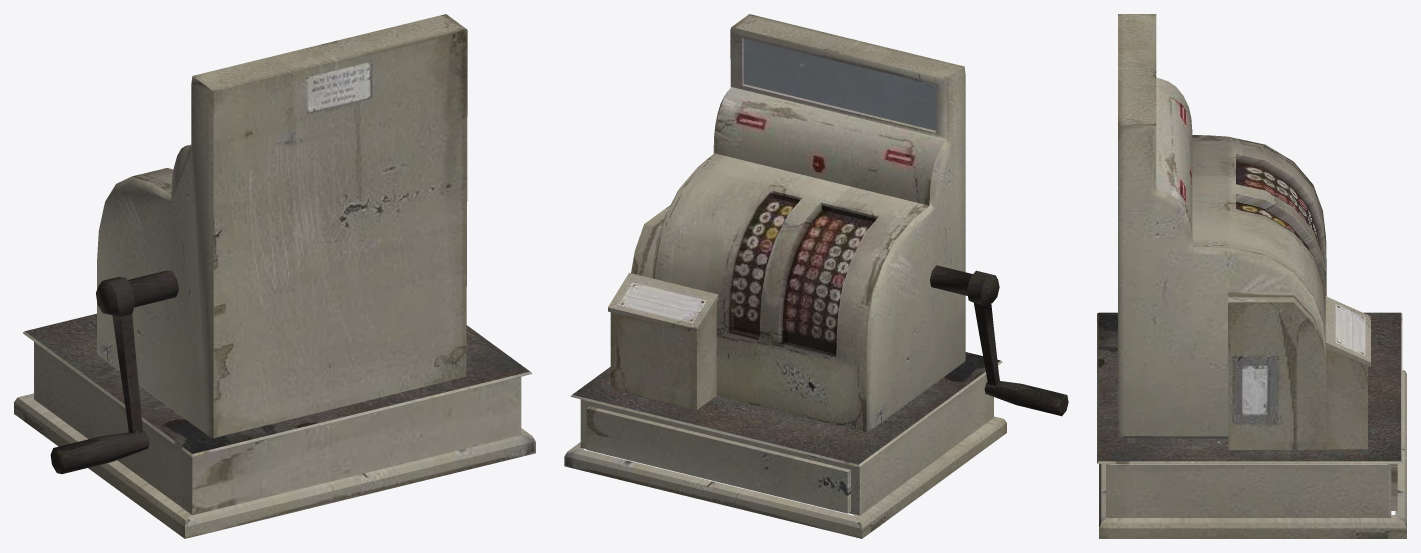
File: cashregister01a.glb
3 views of the same model, side by side, from view 1: azimuth 30°, elevation 25°; view 2: azimuth 150°, elevation 25°; view 3: azimuth 270°, elevation 25° (orthographic). The views are drawn at different scales.
Visible parts, largest first — view 1: 0_cashregister01a; view 2: 0_cashregister01a, 1_cashregister01a_02; view 3: 0_cashregister01a.
Boxes of the visible parts, x1,y1,x2,y2 form: 0_cashregister01a: [14, 14, 535, 538]; 0_cashregister01a: [564, 14, 1068, 538]; 1_cashregister01a_02: [744, 38, 935, 130]; 0_cashregister01a: [1097, 14, 1406, 538].
Bounding box in the file's own units: 0.6777 × 0.6201 × 0.4489.
2 materials, 2 textured.
